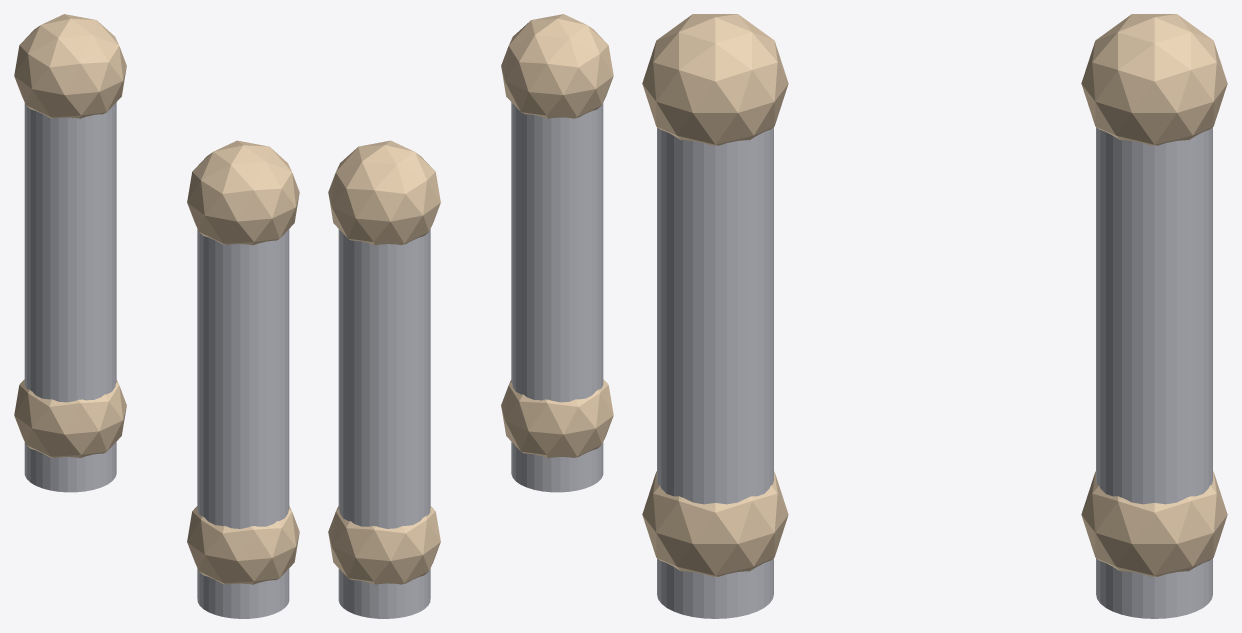
File: hall.fbx_2_lamps.fbx
3 renders of one model, left to right at view 1: azimuth 30°, elevation 25°; view 2: azimuth 150°, elevation 25°; view 3: azimuth 270°, elevation 25°, orthographic. The views are drawn at different scales.
Parts seen in each view (by area): view 1: Cylinder, Cylinder.001, Icosphere.001, Icosphere.003, Icosphere.002, Icosphere; view 2: Cylinder.001, Cylinder, Icosphere.003, Icosphere.001, Icosphere, Icosphere.002; view 3: Cylinder.001, Cylinder, Icosphere.003, Icosphere.001, Icosphere.002, Icosphere.
Part boxes in pixels (x1,y1,x2,y2): Cylinder: [24, 102, 116, 492]; Cylinder.001: [197, 229, 289, 618]; Icosphere.001: [14, 14, 126, 118]; Icosphere.003: [187, 140, 299, 245]; Icosphere.002: [187, 506, 299, 584]; Icosphere: [14, 379, 126, 458]; Cylinder.001: [511, 102, 603, 492]; Cylinder: [338, 229, 430, 618]; Icosphere.003: [501, 14, 613, 118]; Icosphere.001: [328, 140, 440, 245]; Icosphere: [328, 506, 440, 584]; Icosphere.002: [501, 379, 613, 458]; Cylinder.001: [657, 127, 773, 618]; Cylinder: [1096, 127, 1212, 618]; Icosphere.003: [642, 14, 788, 145]; Icosphere.001: [1081, 14, 1227, 145]; Icosphere.002: [642, 471, 788, 576]; Icosphere: [1081, 471, 1227, 576].
Size of the model in its own units: 190 by 870 by 800.
